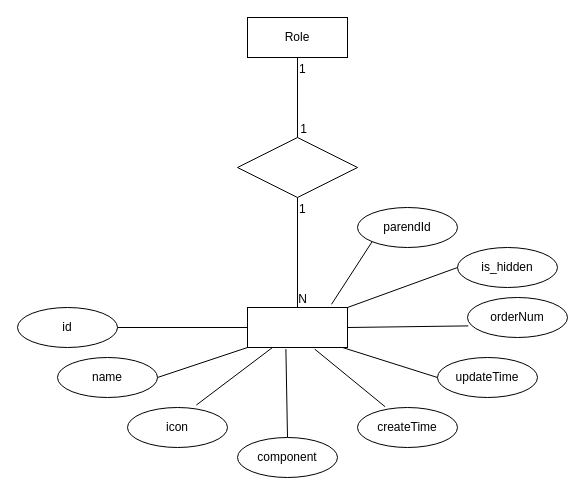
Some shapes in this 585 by 495 pixel diagram are drawn without their labels. Each missing label, with the box of its shape:
has: (236, 136, 358, 198)
menu: (246, 306, 348, 348)
